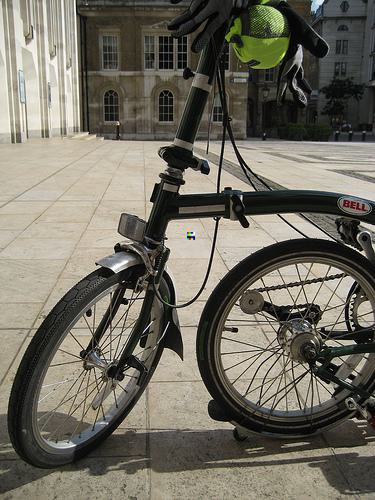car: (8, 1, 375, 471)
